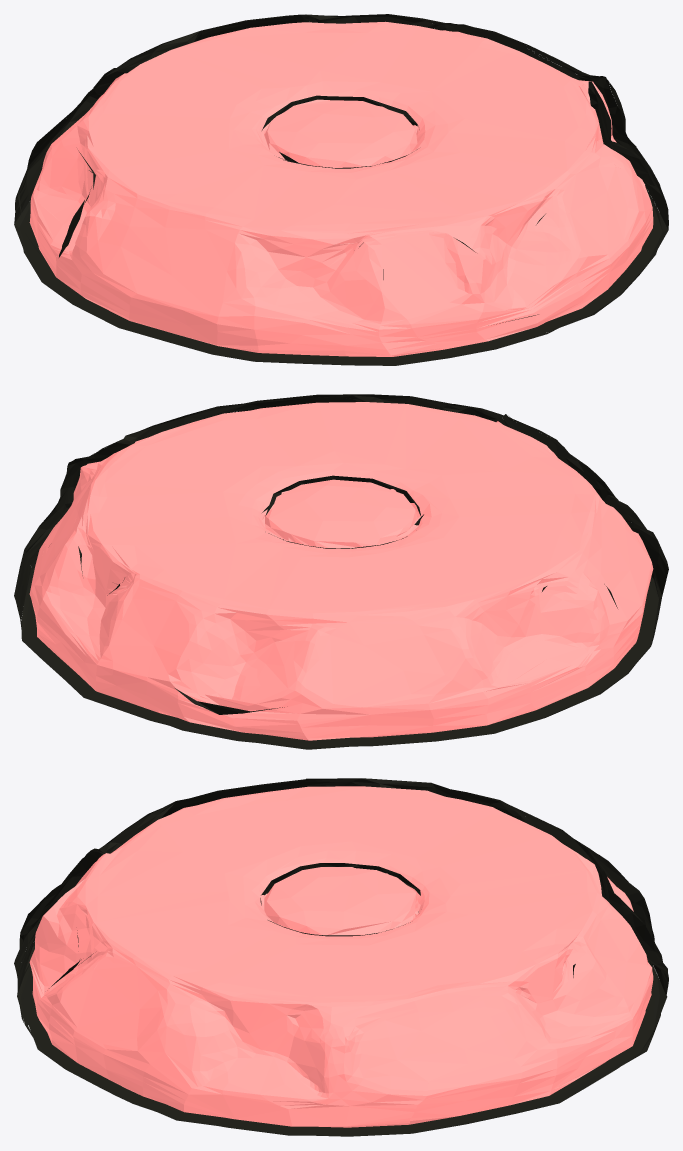
File: df_v2_outpost_marker_b_a.glb
The picture shows the model from 3 angles, top to bottom: view 1: azimuth 30°, elevation 25°; view 2: azimuth 150°, elevation 25°; view 3: azimuth 270°, elevation 25°; orthographic projection.
Visible parts, largest first — view 1: outpost_marker_b_mesh_01, outpost_marker_b_mesh_01_ink_outline; view 2: outpost_marker_b_mesh_01, outpost_marker_b_mesh_01_ink_outline; view 3: outpost_marker_b_mesh_01, outpost_marker_b_mesh_01_ink_outline.
Boxes of the visible parts, bbox=[...] form: outpost_marker_b_mesh_01: bbox=[29, 21, 653, 356]; outpost_marker_b_mesh_01_ink_outline: bbox=[14, 14, 668, 365]; outpost_marker_b_mesh_01: bbox=[29, 402, 653, 740]; outpost_marker_b_mesh_01_ink_outline: bbox=[14, 394, 668, 749]; outpost_marker_b_mesh_01: bbox=[29, 786, 653, 1127]; outpost_marker_b_mesh_01_ink_outline: bbox=[14, 778, 668, 1136].
Bounding box in the file's own units: 0.6276 × 0.1182 × 0.63.
